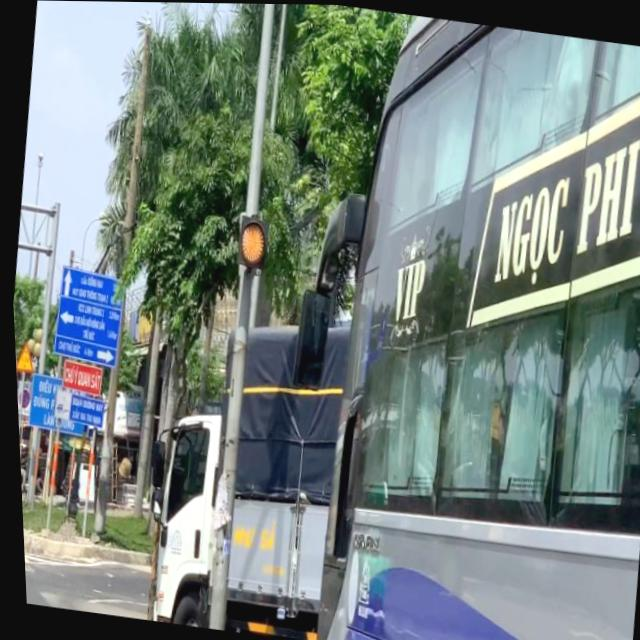Chieu cao an toan: (12, 338, 34, 374)
